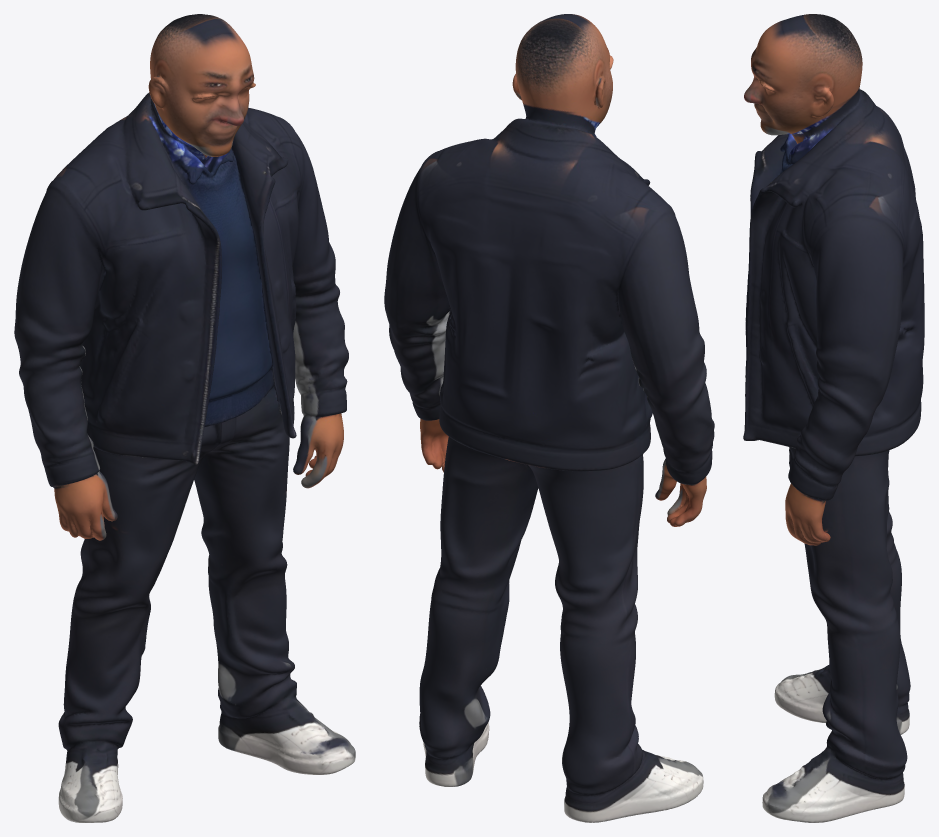
File: jaider.glb
3 views of the same model, side by side, from view 1: azimuth 30°, elevation 25°; view 2: azimuth 150°, elevation 25°; view 3: azimuth 270°, elevation 25° (orthographic). The views are drawn at different scales.
Parts seen in each view (by area): view 1: tripo_node_c53c19f5-60c6-42f3-b113-679280bdeb15; view 2: tripo_node_c53c19f5-60c6-42f3-b113-679280bdeb15; view 3: tripo_node_c53c19f5-60c6-42f3-b113-679280bdeb15.
Boxes of the visible parts, x1,y1,x2,y2 form: tripo_node_c53c19f5-60c6-42f3-b113-679280bdeb15: (14, 14, 355, 822); tripo_node_c53c19f5-60c6-42f3-b113-679280bdeb15: (384, 14, 714, 822); tripo_node_c53c19f5-60c6-42f3-b113-679280bdeb15: (743, 14, 924, 822).
Size of the model in its own units: 0.4294 by 1 by 0.2215.
Materials: 1 (1 with a texture image).
